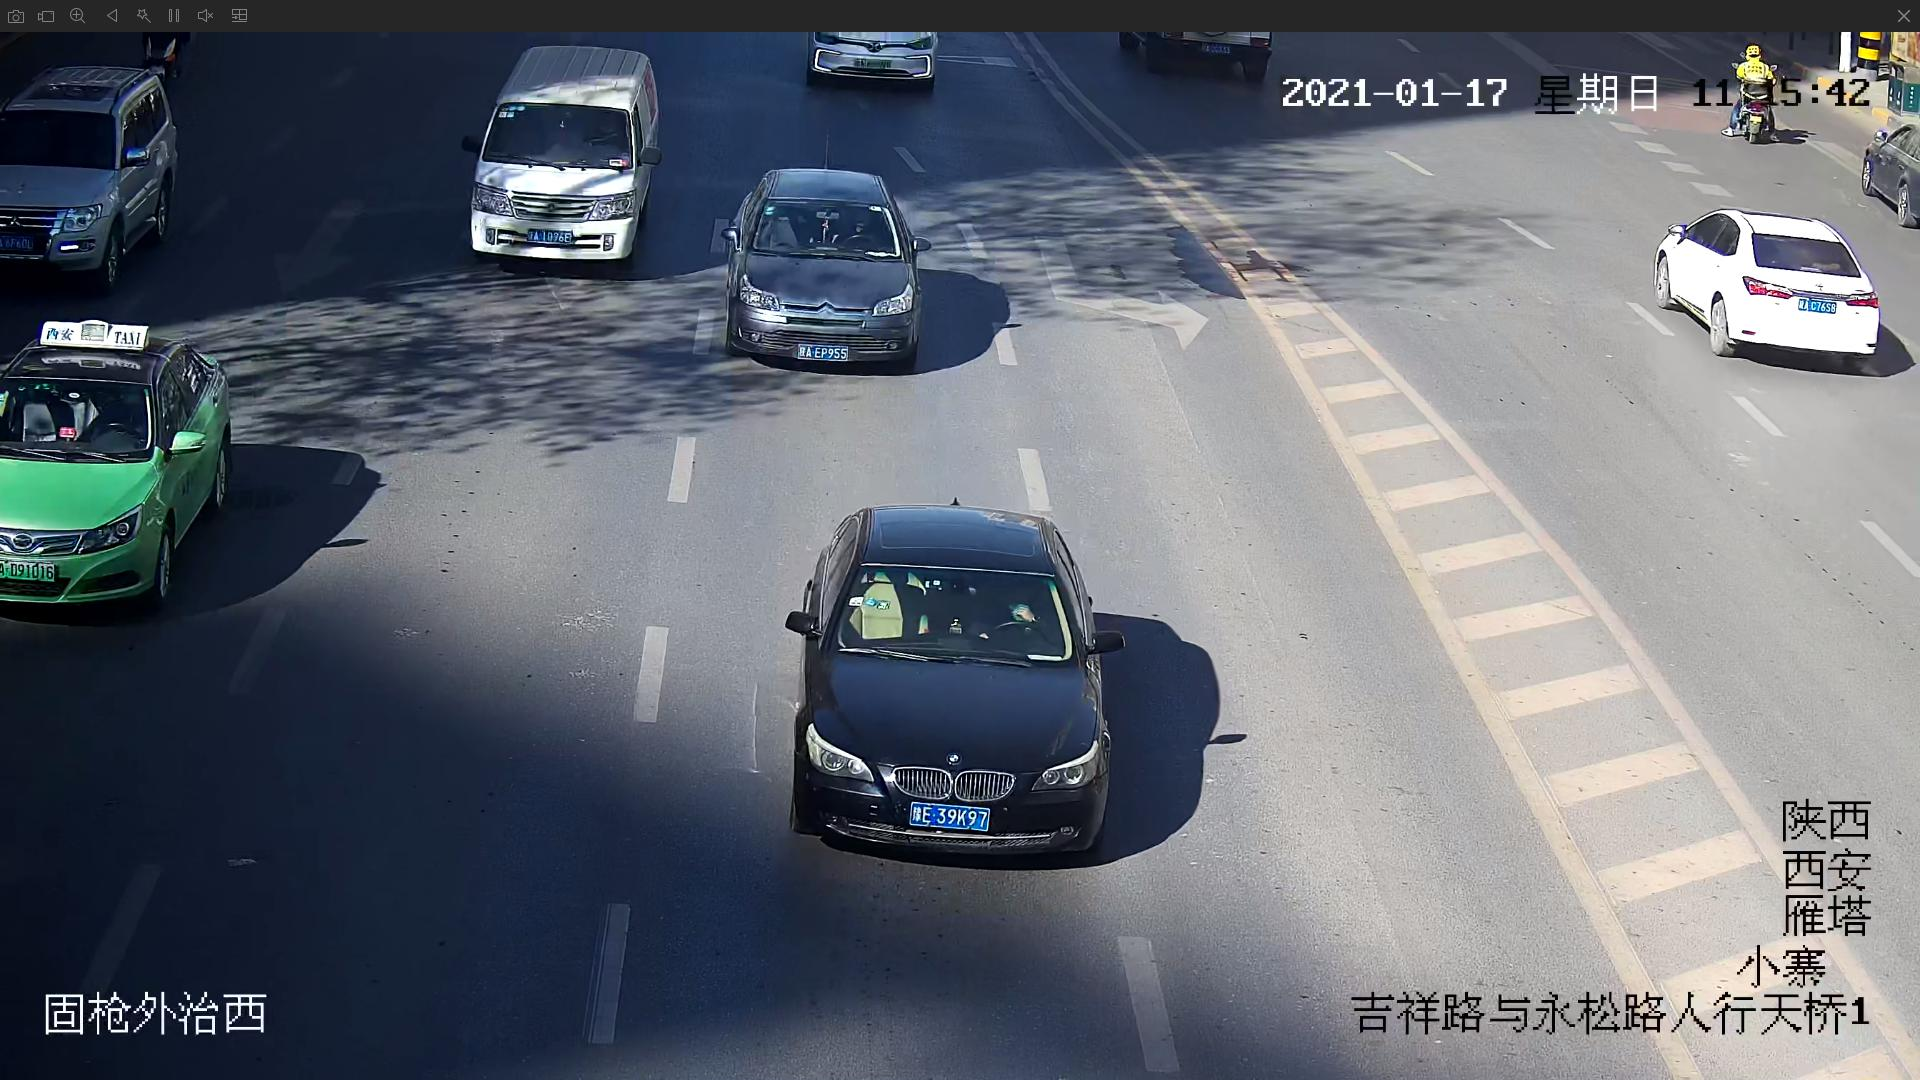black: (789, 502, 1122, 862), (723, 166, 918, 373)
grass-green: (3, 326, 227, 608)
white: (458, 42, 658, 274)
